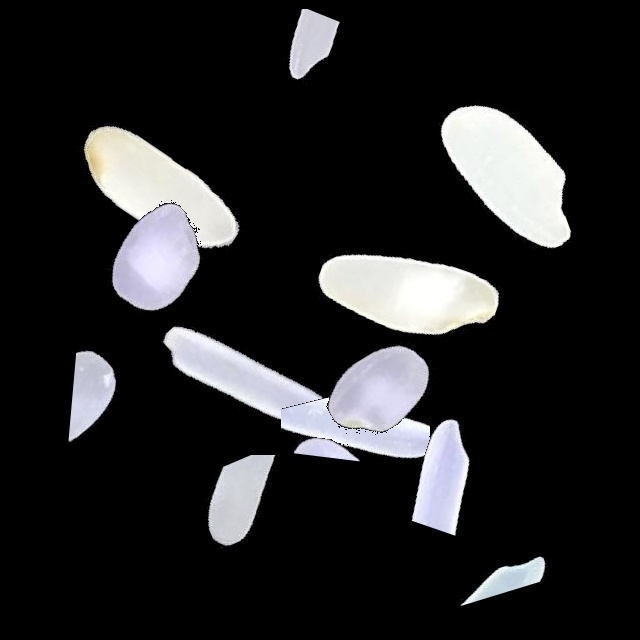Broken: (141, 455, 391, 605), (281, 342, 430, 592), (387, 340, 518, 590), (7, 343, 257, 463), (173, 9, 423, 129), (294, 284, 393, 534), (149, 197, 399, 293), (322, 519, 572, 608), (117, 128, 204, 378)
Full: (387, 52, 637, 302), (33, 68, 283, 318), (32, 136, 282, 386), (121, 254, 371, 504), (254, 268, 504, 518), (281, 168, 531, 418)
